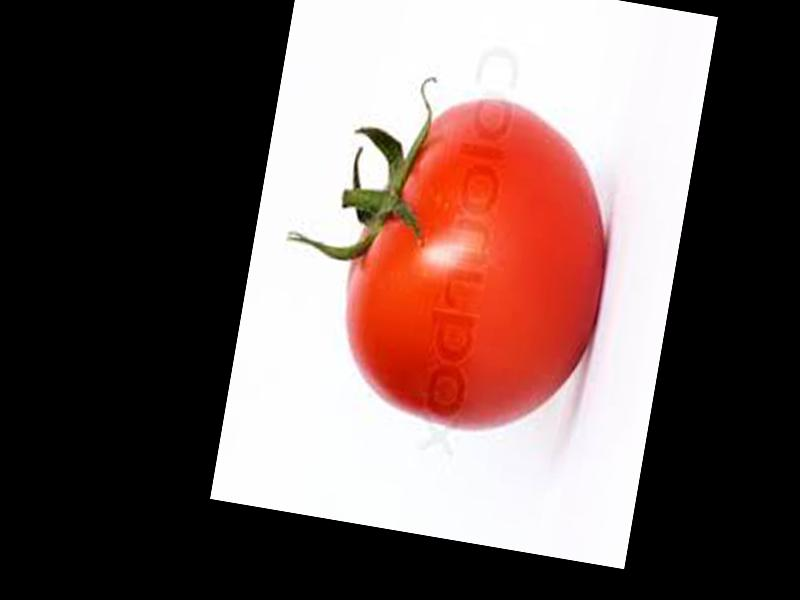Tomato: (325, 83, 626, 447)
